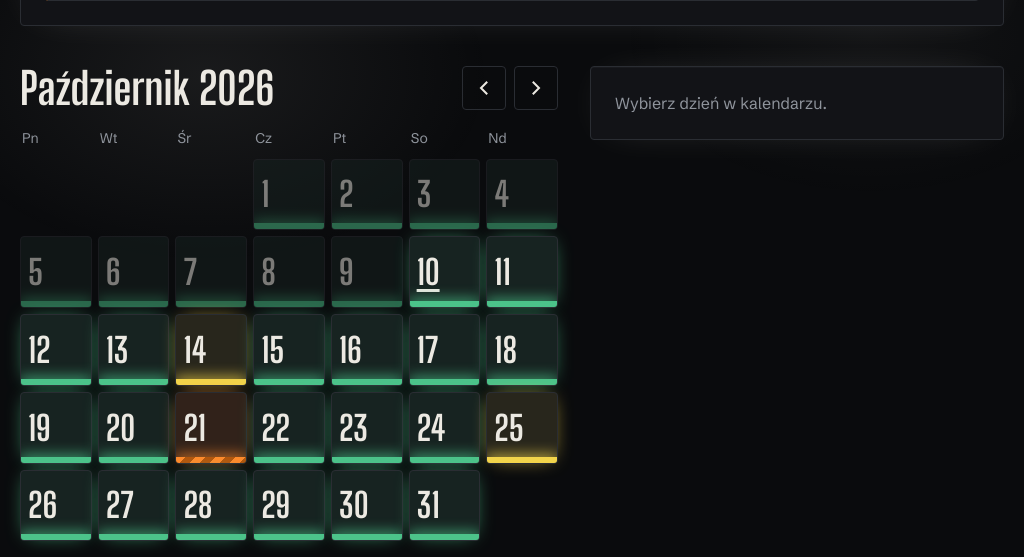
Test: panel admina › akceptacja bez uprawnień (0 zmienionych wierszy) nie wysyła maila
(page scrolled)
Click the button "21". click: (211, 428)
box: [175,392,247,464]
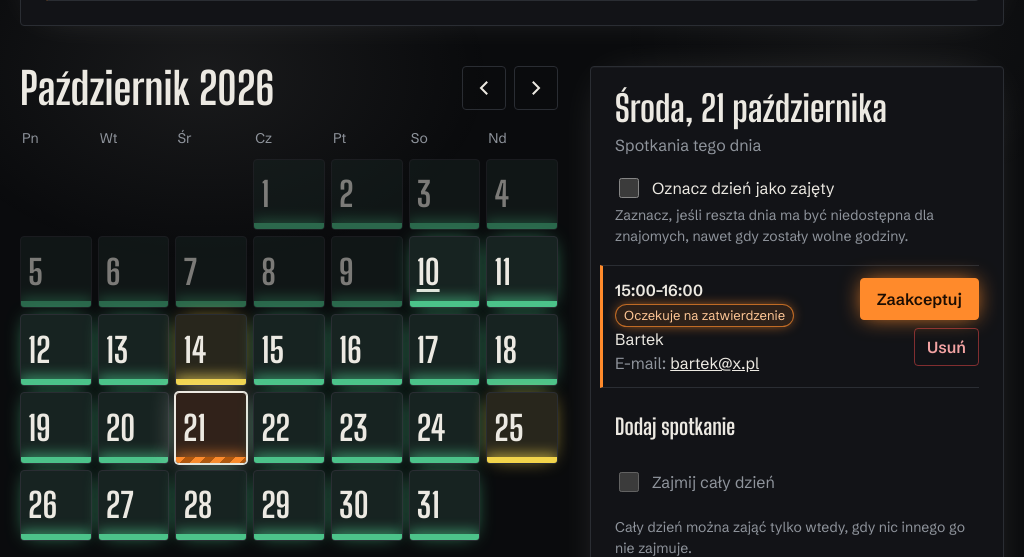
Click the button "Zaakceptuj". click: (919, 299)
box: [860,278,979,320]
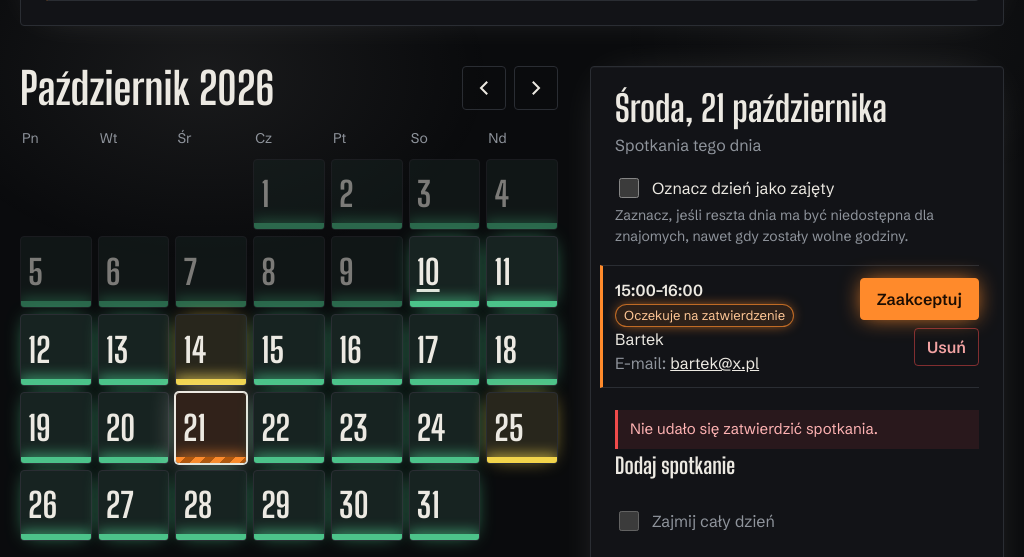
expect the text "Nie udało się zatwierdzić spotkania." is shown: met, box [615,410,979,449]
